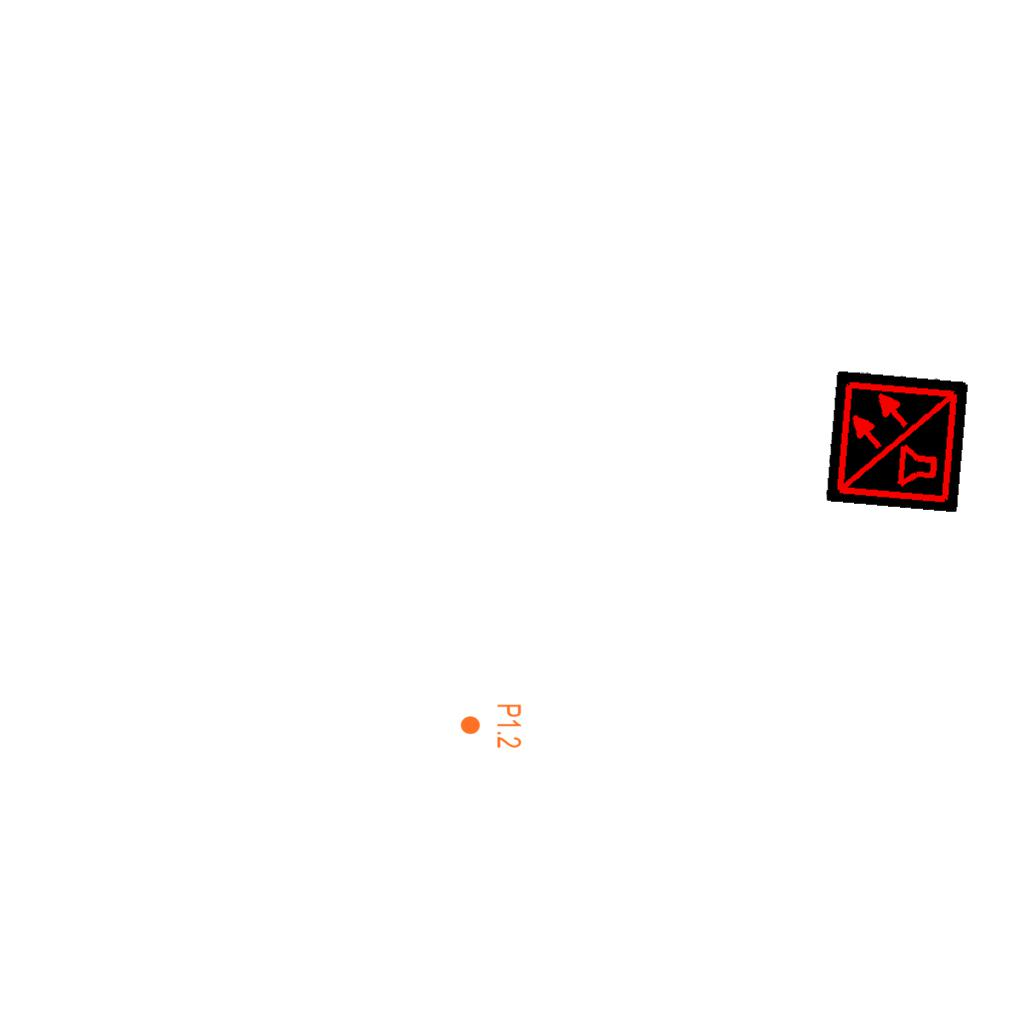Downlight_LED_Einbauleuchten_Flur: (459, 703, 523, 749)
OKW_Multisensormelder_(Kombination_optischer_Rauch-Kahlenmonoxid_Waerme-Melder): (825, 369, 969, 513)
